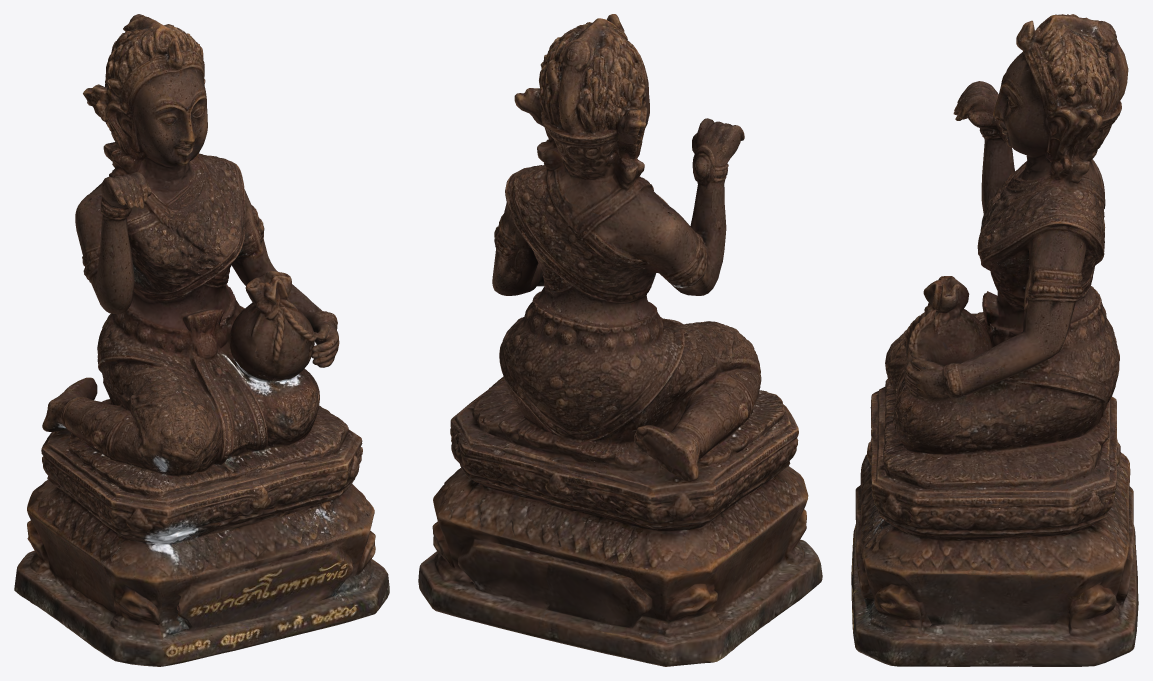
File: e4nangkwak.glb
The picture shows the model from 3 angles, left to right: view 1: azimuth 30°, elevation 25°; view 2: azimuth 150°, elevation 25°; view 3: azimuth 270°, elevation 25°; orthographic projection. The views are drawn at different scales.
Size of the model in its own units: 0.5305 by 0.9998 by 0.4514.
Materials: 1 (1 with a texture image).
